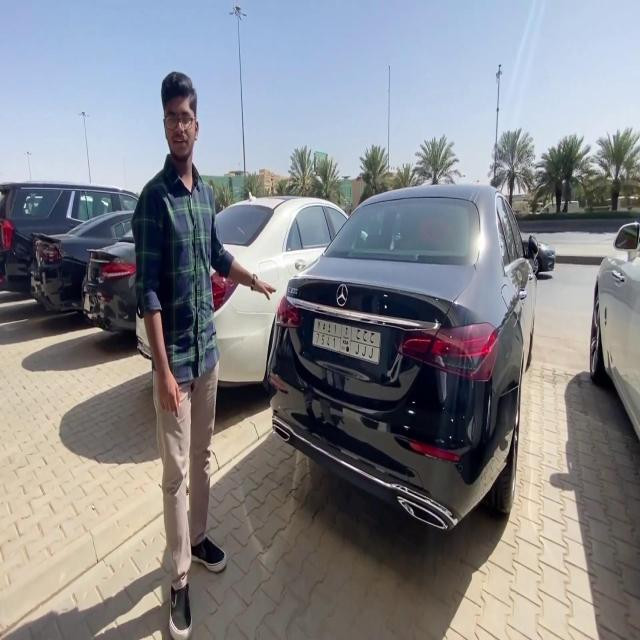license_plate: (308, 310, 384, 366)
